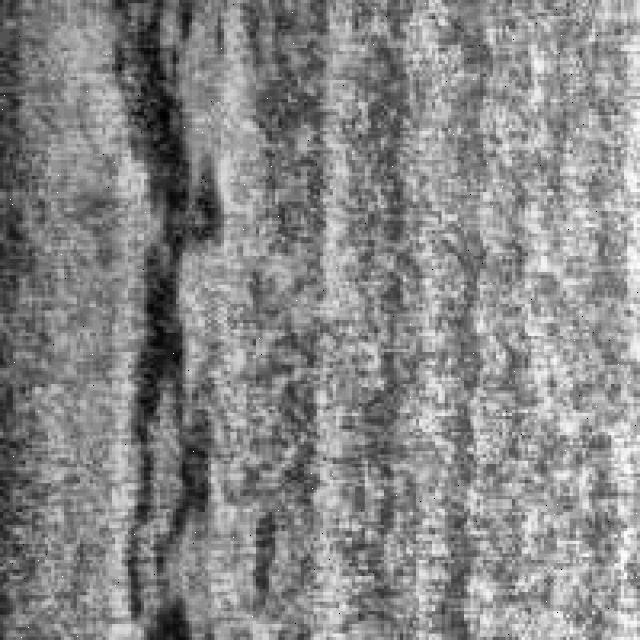Patches: (93, 3, 221, 627)
